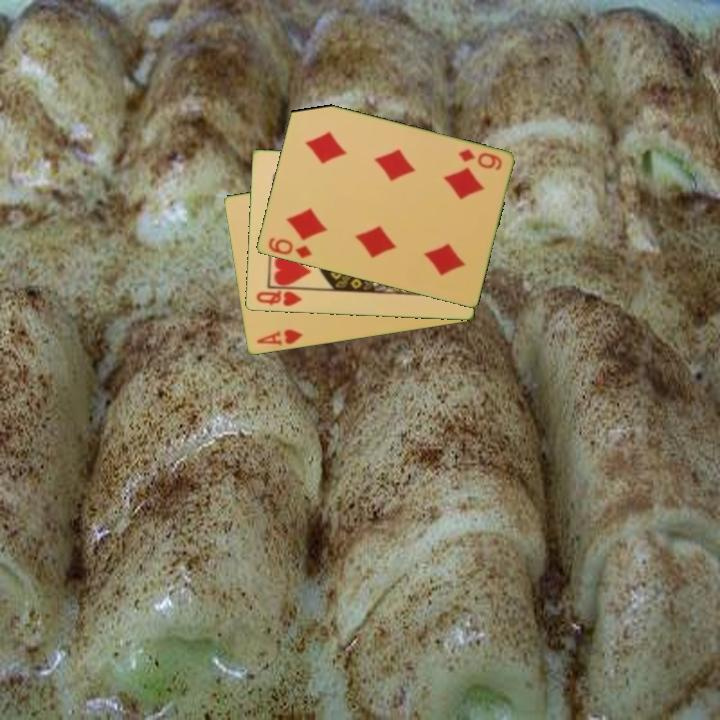6d: (264, 234, 315, 262), (455, 145, 504, 174)
Ah: (253, 326, 305, 349)
Qh: (253, 285, 308, 310)
